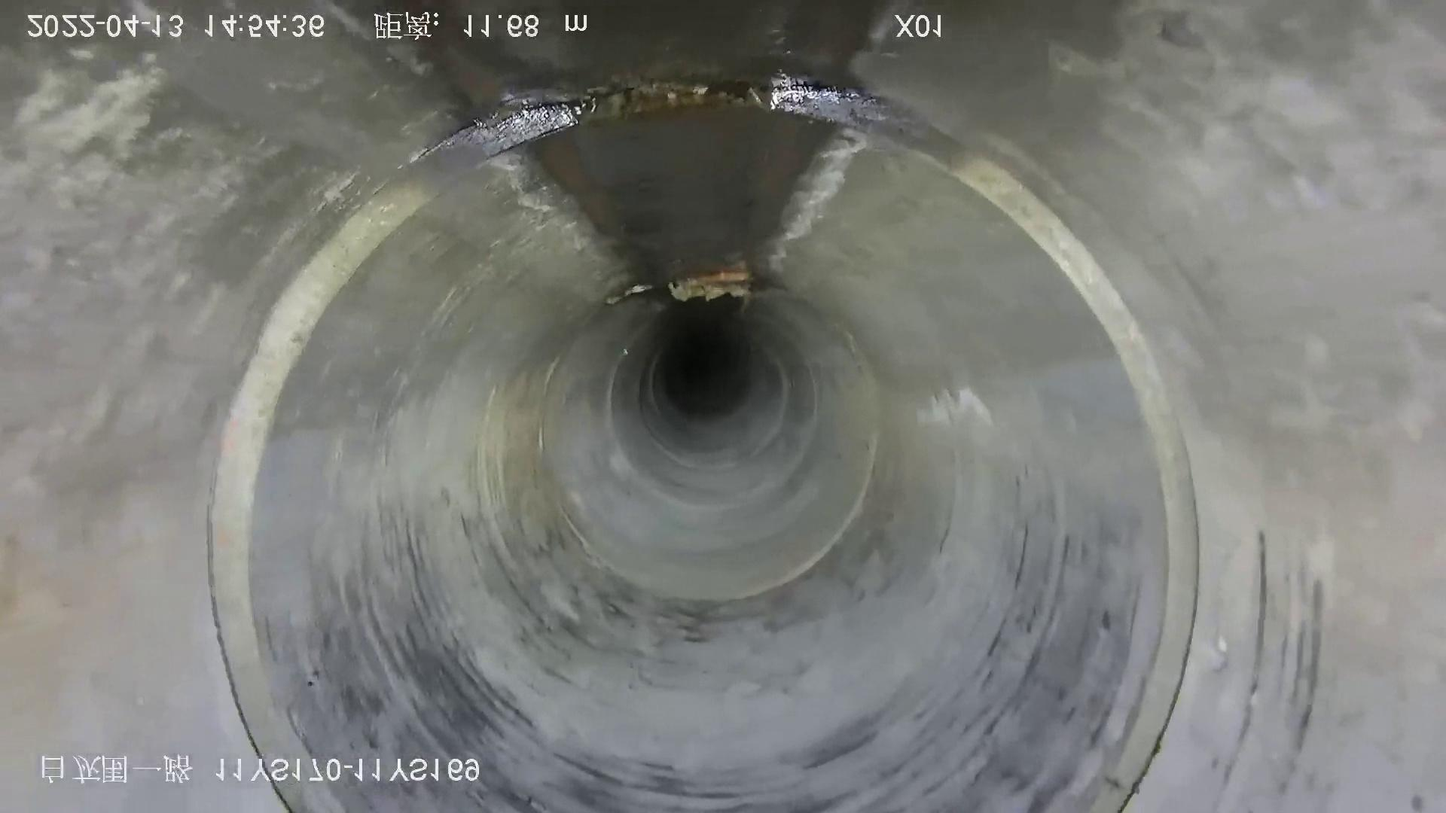CKTJ: (209, 77, 1199, 813)
